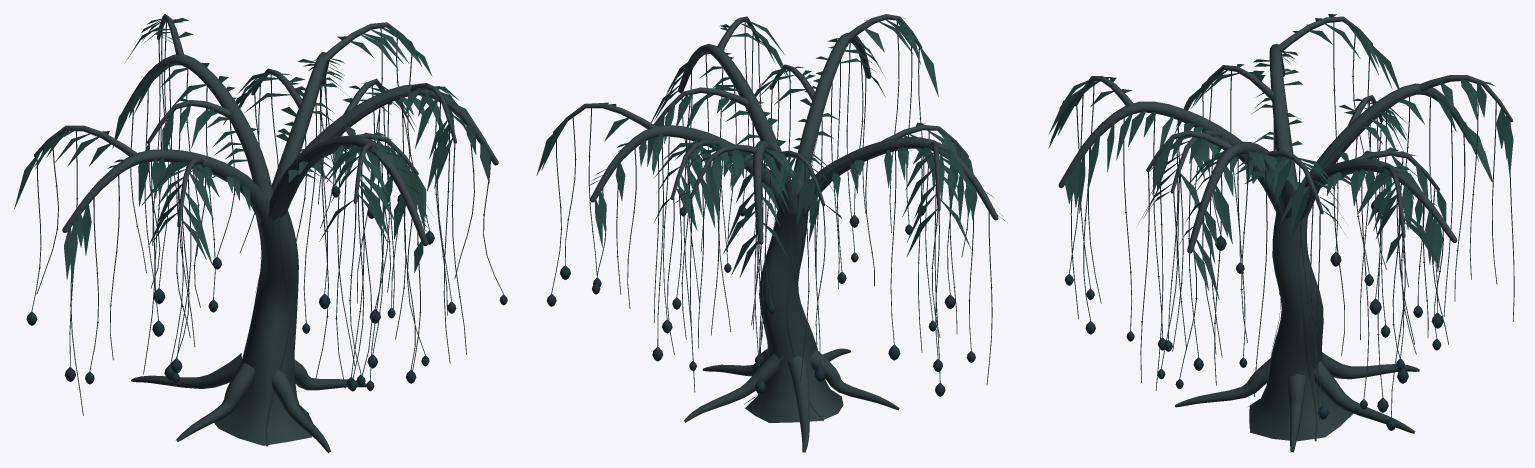
File: weepingTree_lod0.glb
3 renders of one model, left to right at view 1: azimuth 30°, elevation 25°; view 2: azimuth 150°, elevation 25°; view 3: azimuth 270°, elevation 25°, orthographic. The views are drawn at different scales.
Parts seen in each view (by area): view 1: weeping tree; view 2: weeping tree; view 3: weeping tree.
Part boxes in pixels (x1,y1,x2,y2): weeping tree: (14, 14, 507, 453); weeping tree: (536, 14, 1007, 452); weeping tree: (1048, 14, 1514, 452).
Bounding box in the file's own units: 10.6 × 8.16 × 10.09.
